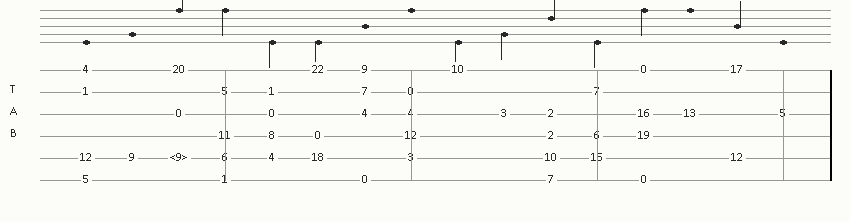0: (176, 108, 186, 120), (269, 108, 279, 120), (315, 130, 325, 142), (362, 174, 372, 186), (408, 86, 418, 98), (641, 64, 651, 76), (641, 174, 651, 186)
1: (83, 86, 93, 98), (222, 174, 232, 186), (269, 86, 279, 98)
10: (452, 64, 468, 76), (545, 152, 561, 164)
11: (219, 130, 235, 142)
12: (80, 152, 96, 164), (405, 130, 421, 142), (731, 152, 747, 164)
13: (684, 108, 700, 120)
15: (591, 152, 607, 164)
16: (638, 108, 654, 120)
17: (731, 64, 747, 76)
18: (312, 152, 328, 164)
19: (638, 130, 654, 142)
2: (548, 130, 558, 142), (548, 108, 558, 120)
20: (173, 64, 189, 76)
22: (312, 64, 328, 76)
3: (408, 152, 418, 164), (501, 108, 511, 120)
4: (83, 64, 93, 76), (269, 152, 279, 164), (362, 108, 372, 120), (408, 108, 418, 120)
5: (83, 174, 93, 186), (222, 86, 232, 98), (780, 108, 790, 120)
6: (222, 152, 232, 164), (594, 130, 604, 142)
7: (362, 86, 372, 98), (548, 174, 558, 186), (594, 86, 604, 98)
8: (269, 130, 279, 142)
9: (129, 152, 139, 164), (362, 64, 372, 76)
harmonic: (170, 152, 192, 164)
